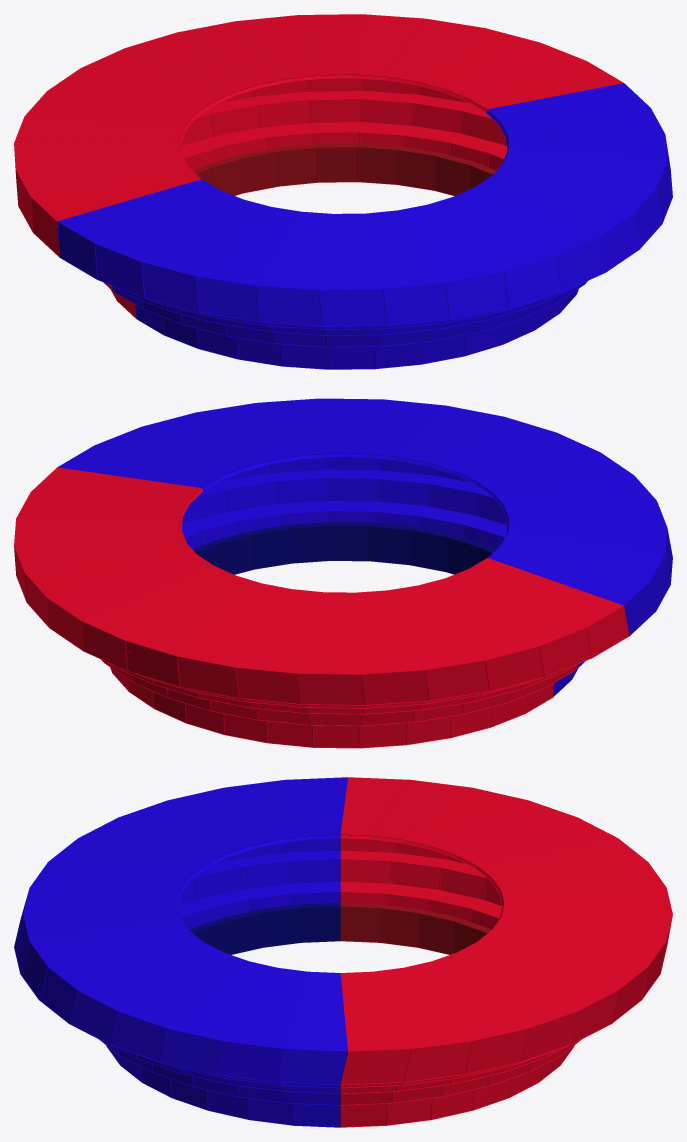
The model's file is stadiumwalls.fbx.
The picture shows the model from 3 angles, top to bottom: view 1: azimuth 30°, elevation 25°; view 2: azimuth 150°, elevation 25°; view 3: azimuth 270°, elevation 25°; orthographic projection.
Parts seen in each view (by area): view 1: stadiumWalls; view 2: stadiumWalls; view 3: stadiumWalls.
Boxes of the visible parts, box(x1,y1,x2,y2) form: stadiumWalls: box(14, 14, 672, 369); stadiumWalls: box(14, 398, 672, 748); stadiumWalls: box(14, 777, 672, 1127).
Bounding box in the file's own units: 161598 × 33634 × 163082.
